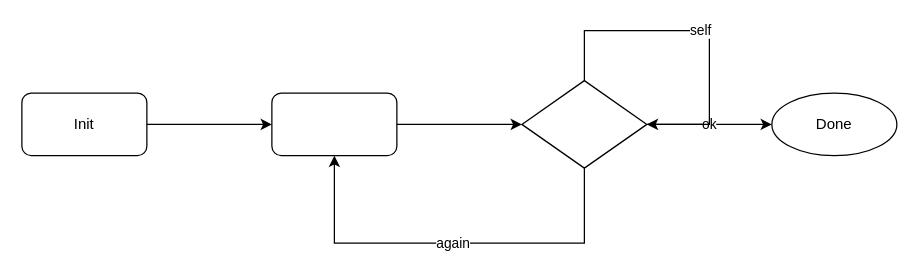
Some shapes in this 919 by 275 pixel diagram are drawn without their labels. The centre of each missing label's shape, as x and y in pixels:
"Check" goes at point (584, 123).
"Work" goes at point (334, 124).
